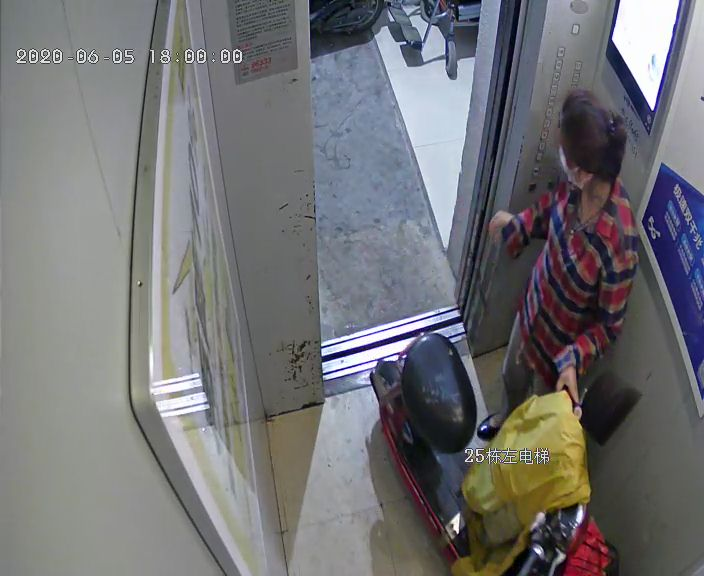Electric-bicycle: (380, 331, 590, 570)
